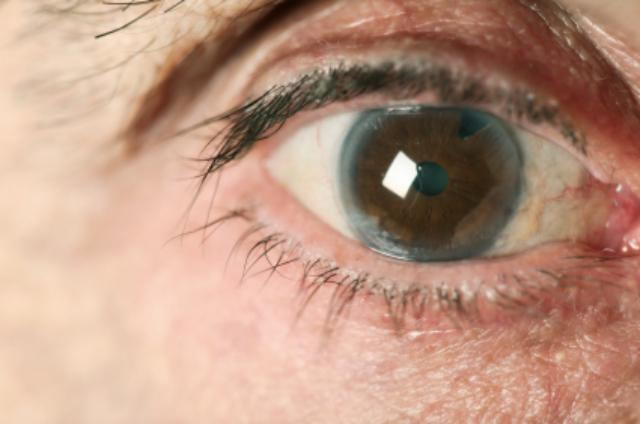eye: (338, 96, 526, 260)
